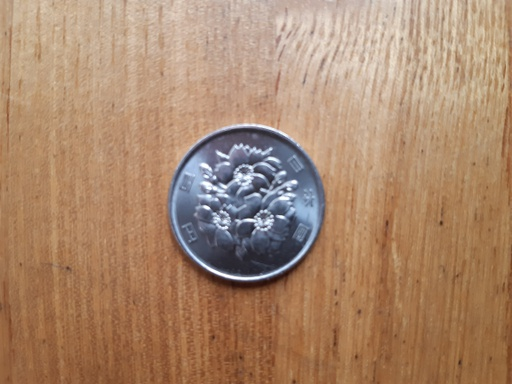100yen: (169, 125, 325, 282)
